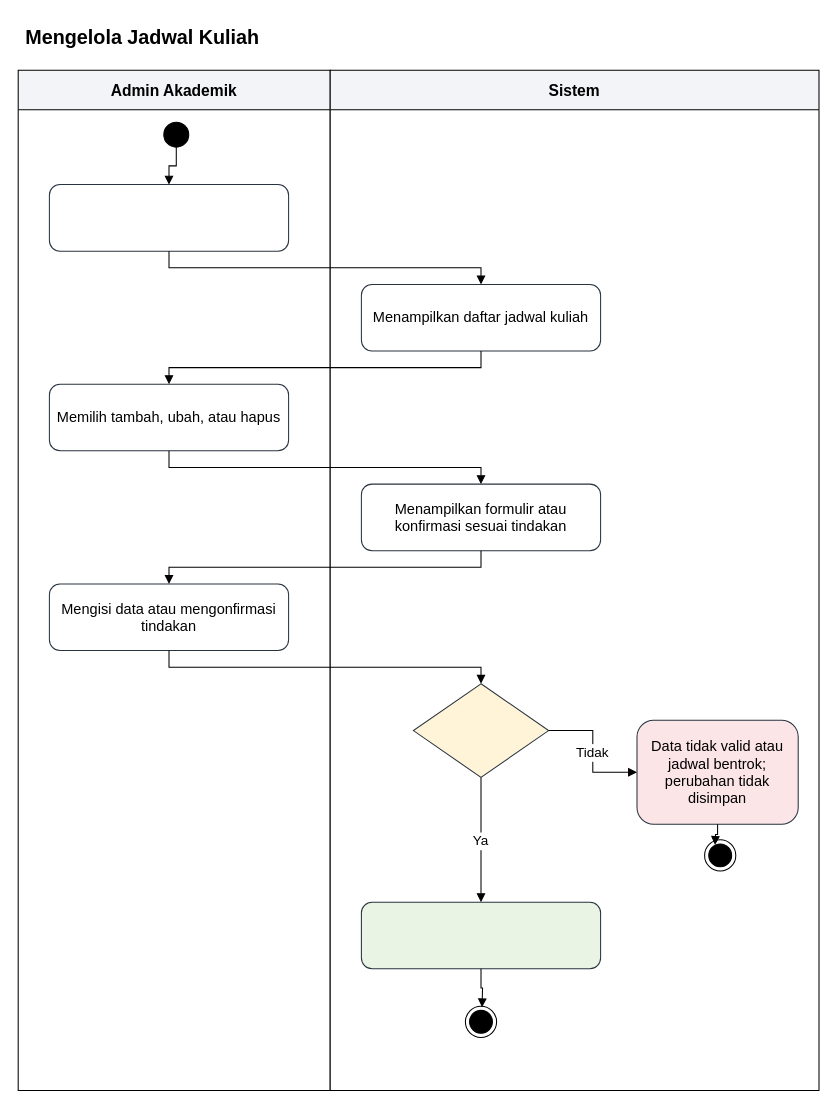
The diagram is 837 pixels wide and 1109 high, and some of its shapes have lost their labels. The shapes that lost their labels are listed below. From the top down, each one's centre as x and y in pixels, then its label:
At (x=168, y=217): "Membuka menu kelola jadwal kuliah".
At (x=480, y=730): "Data dan tindakan valid?".
At (x=480, y=935): "Menyimpan hasil pengelolaan dan memperbarui daftar jadwal".
